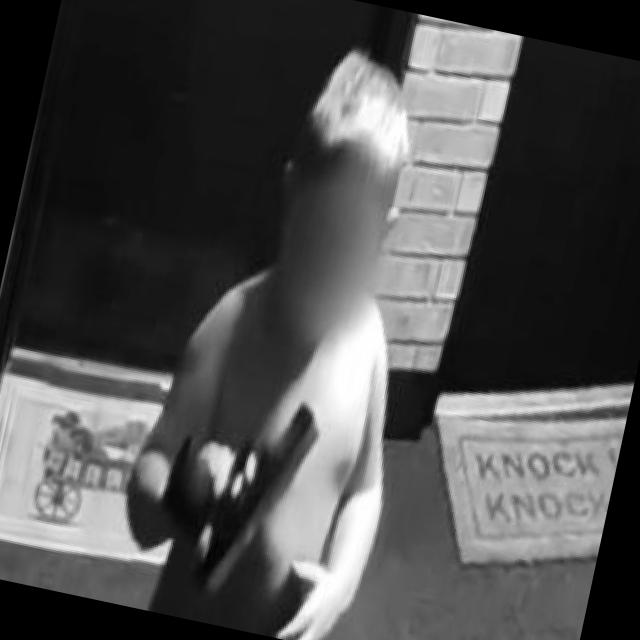Guns: (126, 368, 333, 633)
